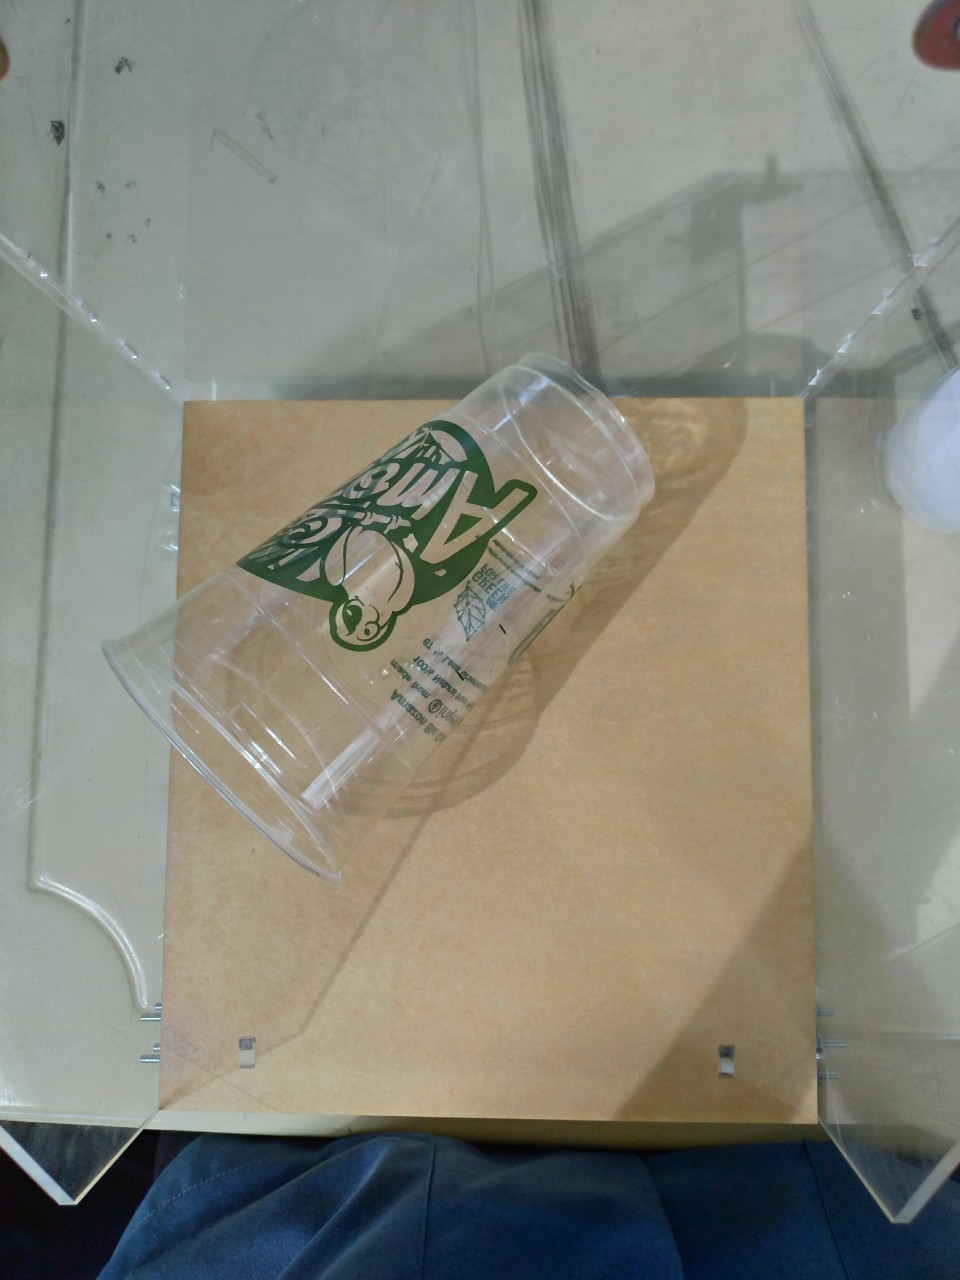PlasticCup: (104, 351, 655, 886)
